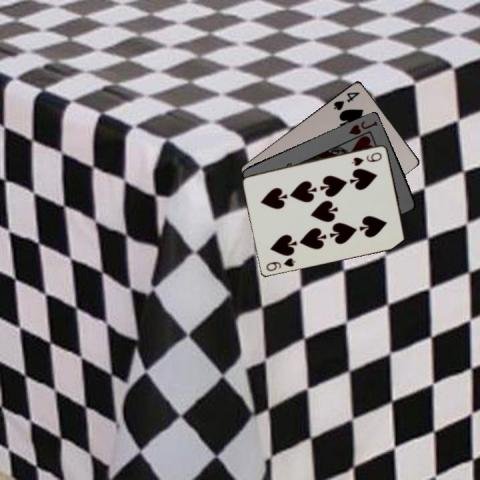4s: (330, 89, 360, 111)
9s: (349, 149, 383, 166), (263, 255, 297, 272)
Jh: (346, 117, 379, 136)
